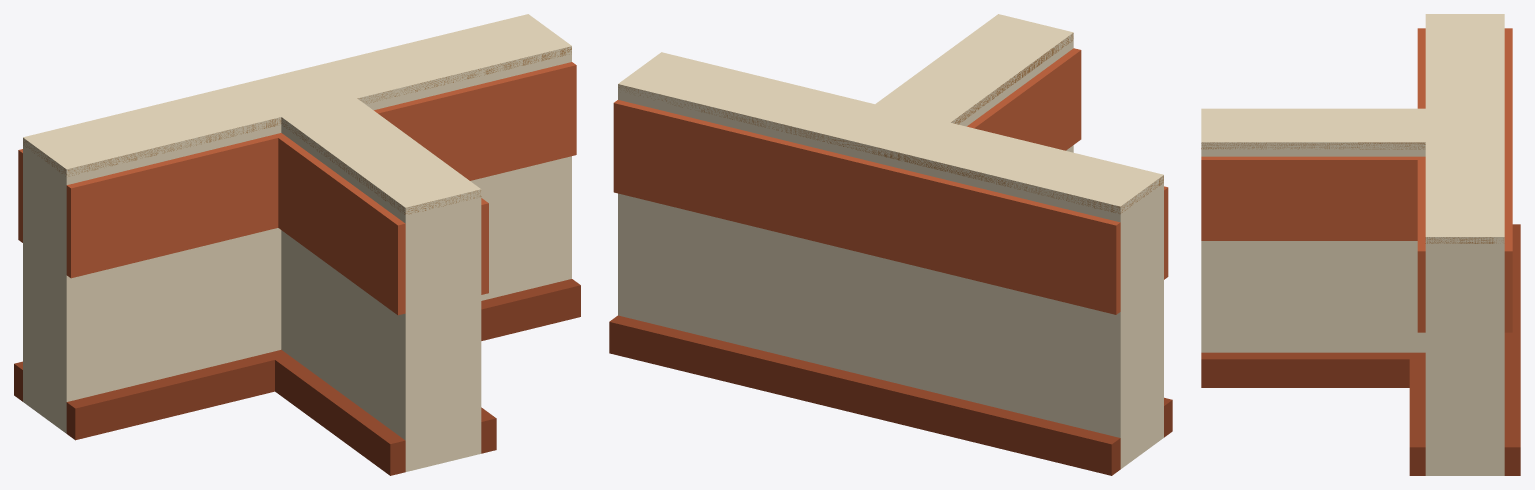
The model's file is partition-tee.glb.
3 views of the same model, side by side, from view 1: azimuth 30°, elevation 25°; view 2: azimuth 150°, elevation 25°; view 3: azimuth 270°, elevation 25° (orthographic). The views are drawn at different scales.
Parts seen in each view (by area): view 1: partition-tee; view 2: partition-tee; view 3: partition-tee.
Boxes of the visible parts, box(x1,y1,x2,y2) form: partition-tee: box(14, 14, 580, 475); partition-tee: box(609, 14, 1172, 475); partition-tee: box(1201, 14, 1520, 475).
Size of the model in its own units: 1 by 0.5 by 0.605.
Materials: 1 (1 with a texture image).
